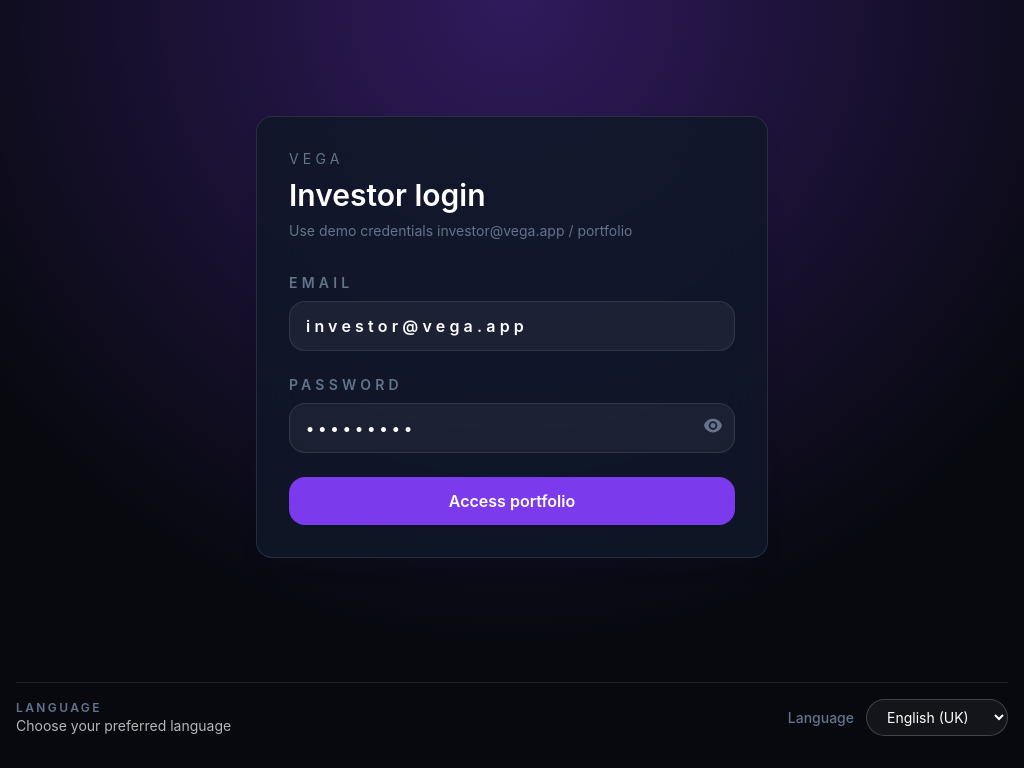
LoginPage › surfaces errors returned by the login mutation
Click the button "Access portfolio" at [512, 501], box [289,477,735,525]
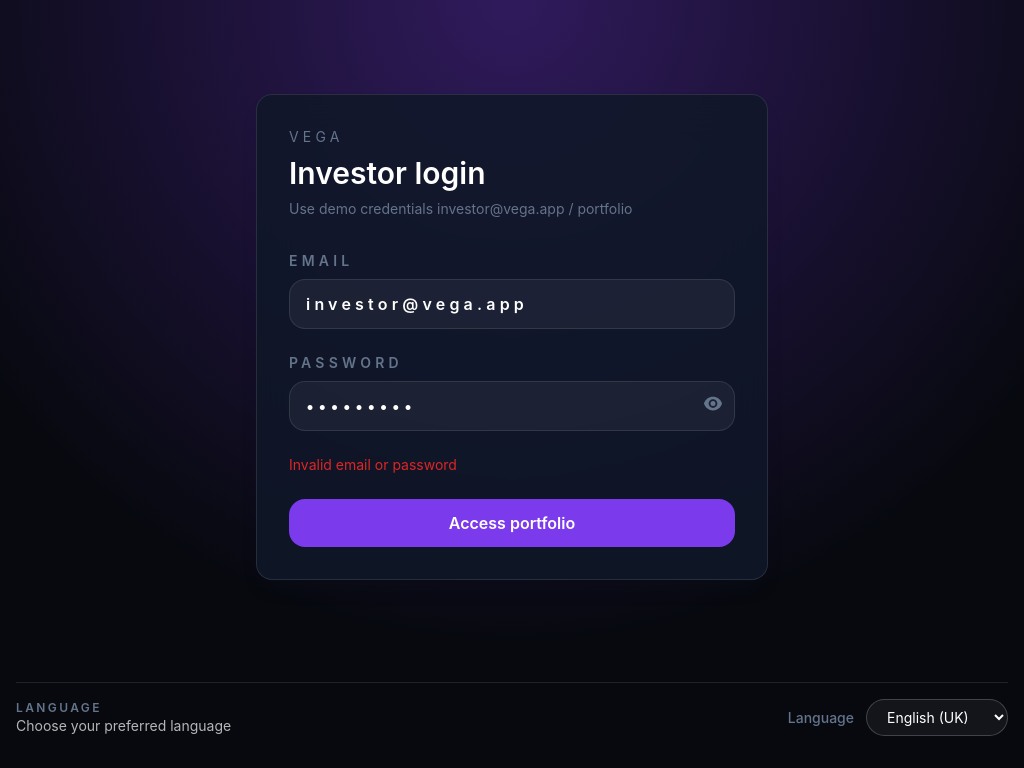
Result: the text "Invalid email or password" is shown at [289,456,457,473]
